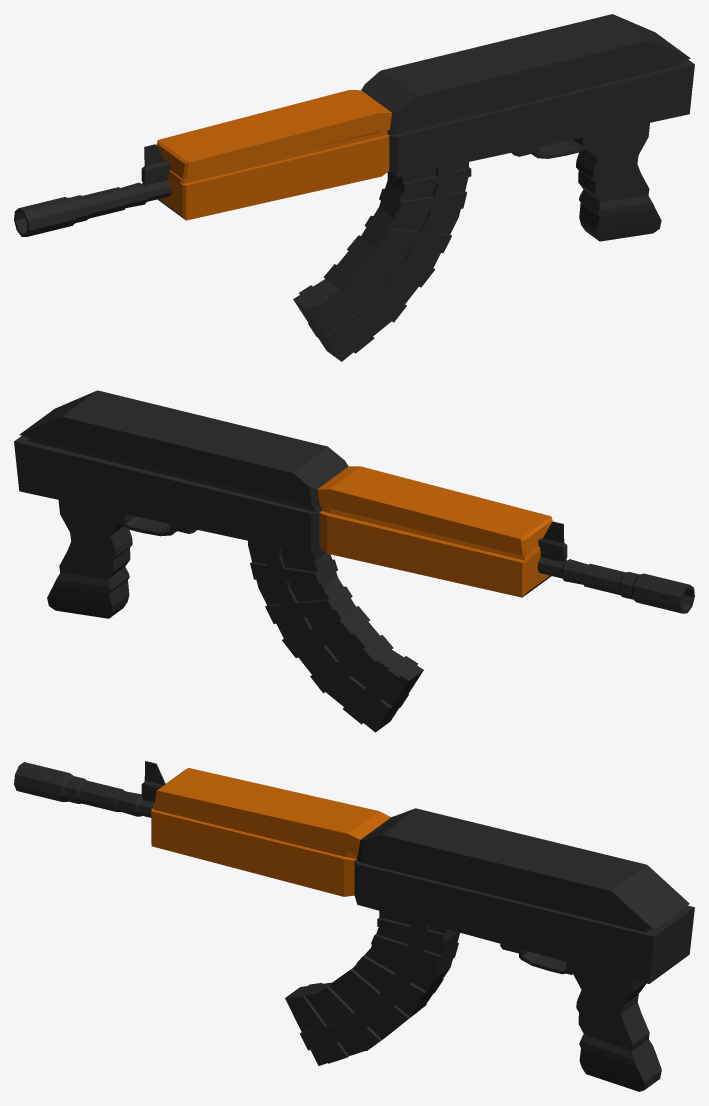
3 renders of one model, top to bottom at view 1: azimuth 30°, elevation 25°; view 2: azimuth 150°, elevation 25°; view 3: azimuth 330°, elevation 25°, orthographic.
Parts seen in each view (by area): view 1: Cube, Cube.001; view 2: Cube, Cube.001; view 3: Cube, Cube.001.
Boxes of the visible parts, box(x1,y1,x2,y2) form: Cube: box(14, 14, 694, 241); Cube.001: box(293, 162, 471, 361); Cube: box(14, 390, 694, 618); Cube.001: box(248, 541, 423, 732); Cube: box(14, 761, 694, 1091); Cube.001: box(285, 911, 459, 1065).
Size of the model in its own units: 5.57 by 2.06 by 0.5983.
